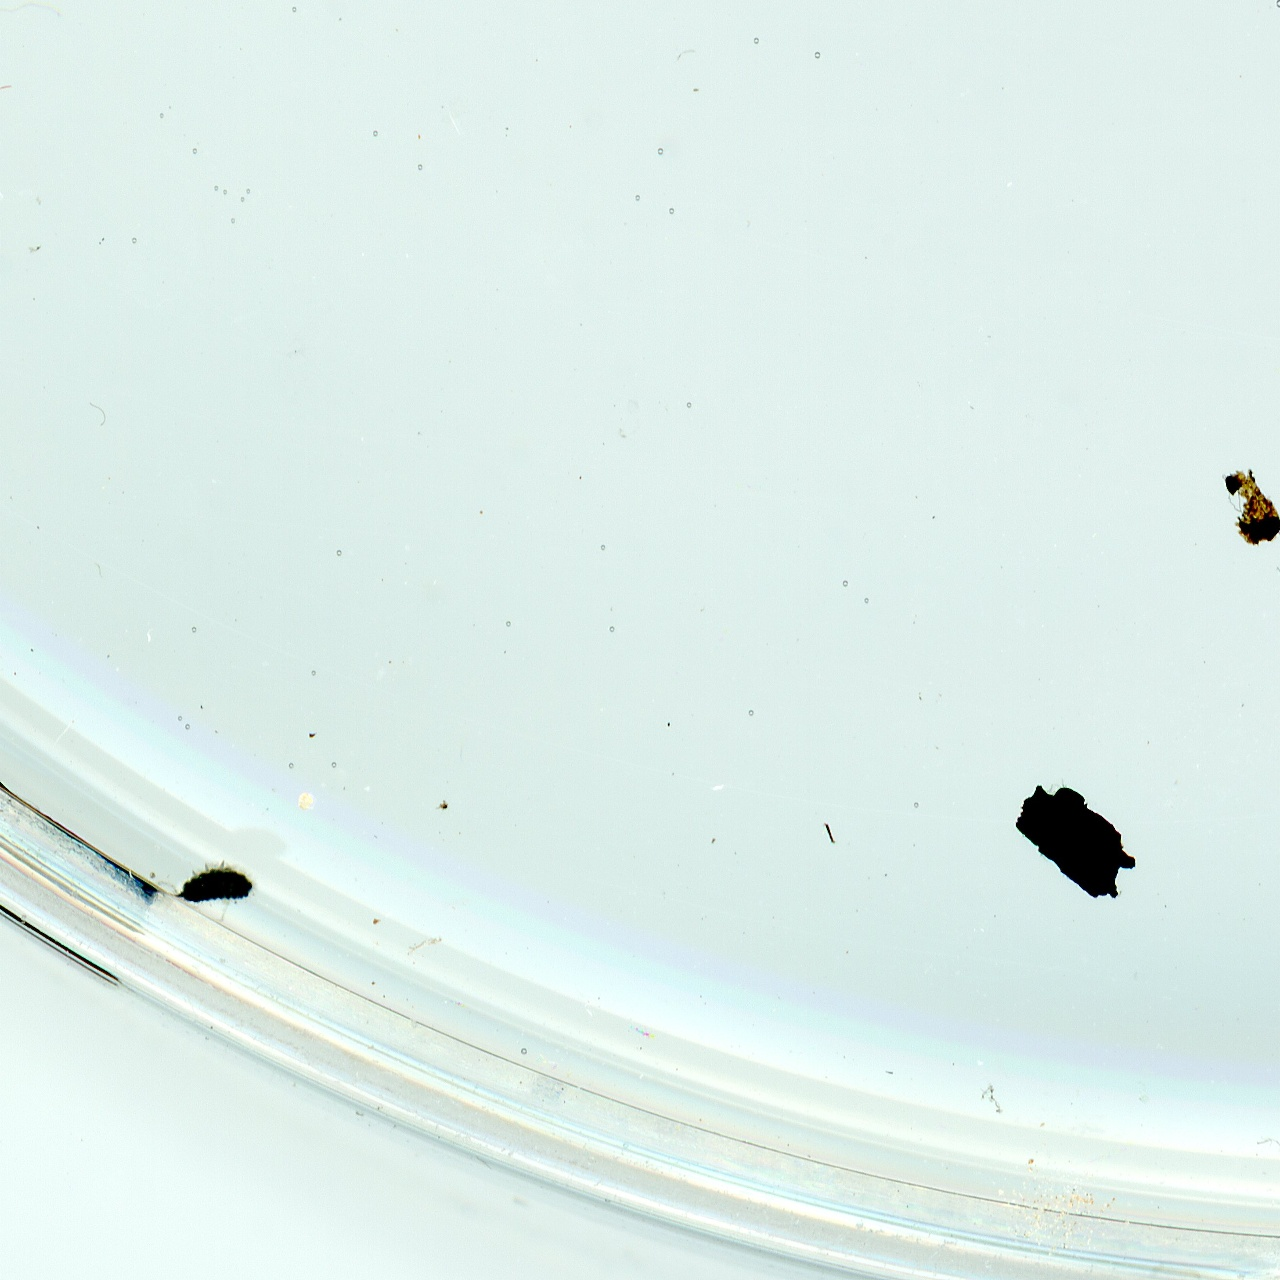arthropod: (173, 857, 255, 905)
